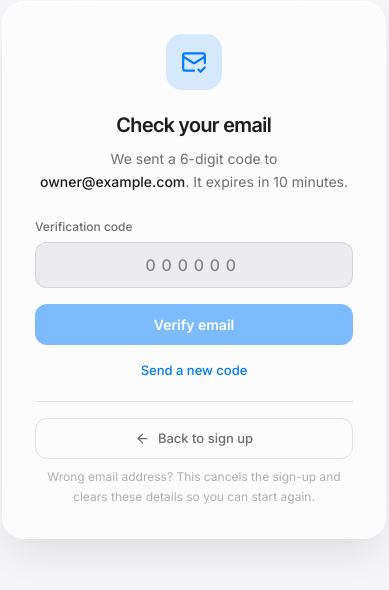
it: VerifyEmail › confirms a successful resend
Step 1. Click the button "Send a new code" → x=194, y=370, box [141,360,247,380]
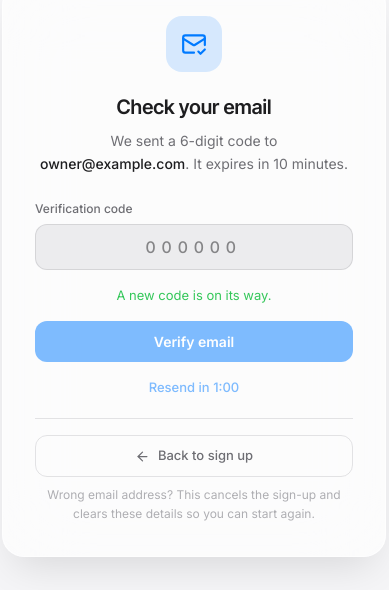
Now the text "A new code is on its way." is shown, box [116,287,272,303]
